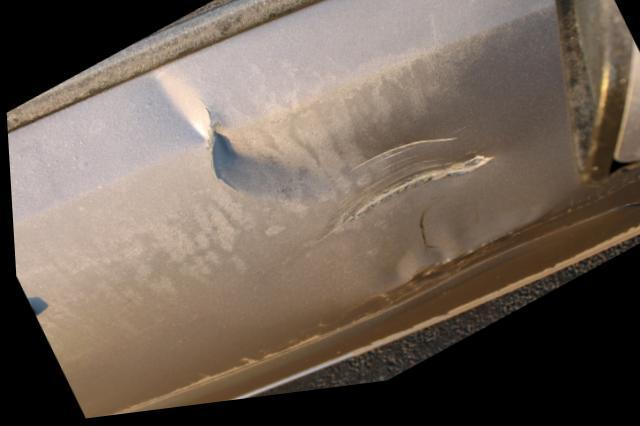dent: (141, 75, 295, 198), (377, 223, 530, 293)
scratch: (318, 145, 501, 250)
